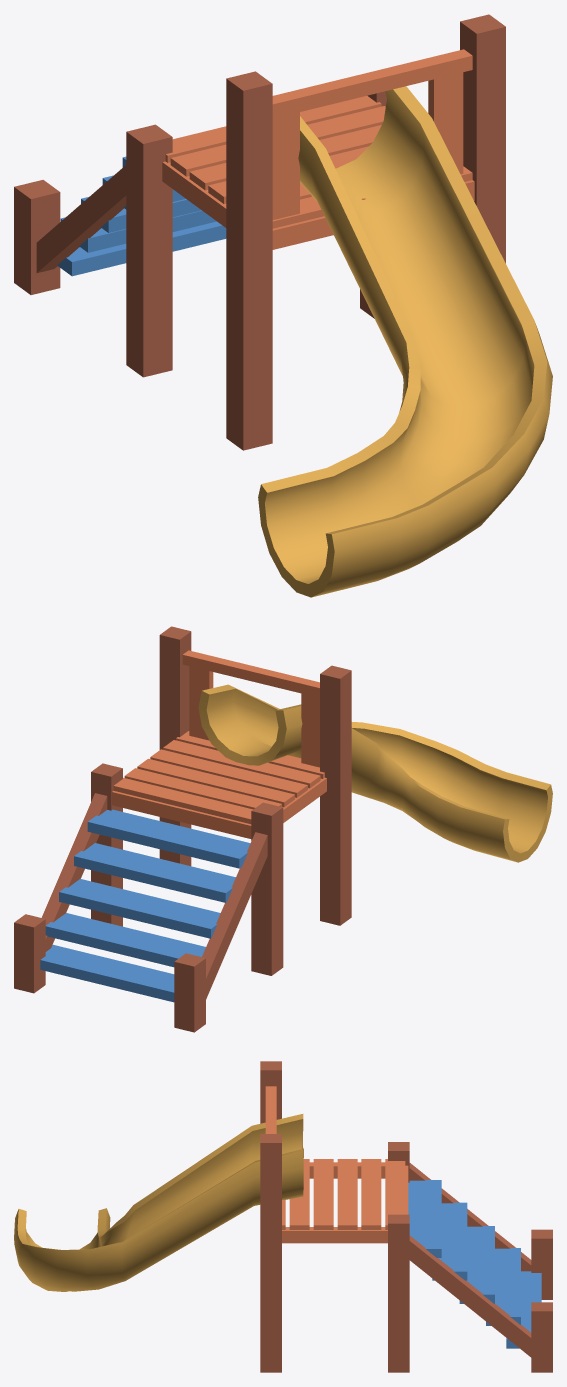
File: Slide_02.fbx
3 renders of one model, top to bottom at view 1: azimuth 30°, elevation 25°; view 2: azimuth 150°, elevation 25°; view 3: azimuth 270°, elevation 25°, orthographic. The views are drawn at different scales.
Parts seen in each view (by area): view 1: Slide_02; view 2: Slide_02; view 3: Slide_02.
Part boxes in pixels (x1=…): Slide_02: x1=14, y1=14, x2=552, y2=597; Slide_02: x1=14, y1=626, x2=552, y2=1032; Slide_02: x1=14, y1=1061, x2=552, y2=1372.
Size of the model in its own units: 1.97 by 1.87 by 3.95.
